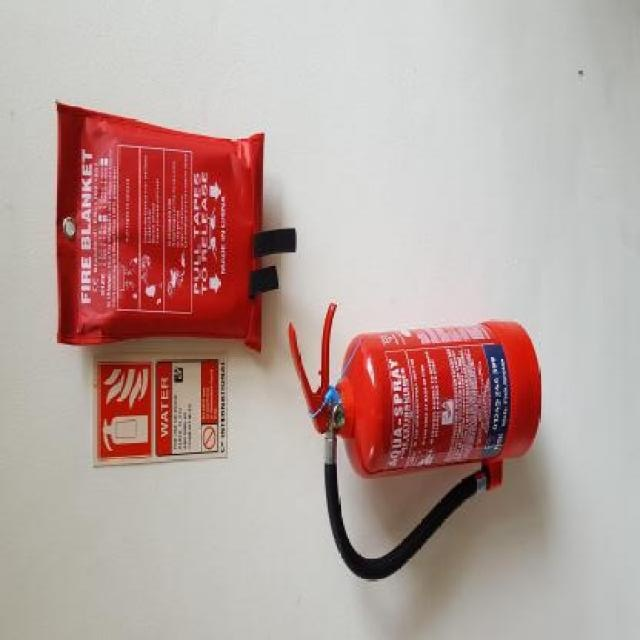fire extinguisher: (289, 300, 540, 585)
